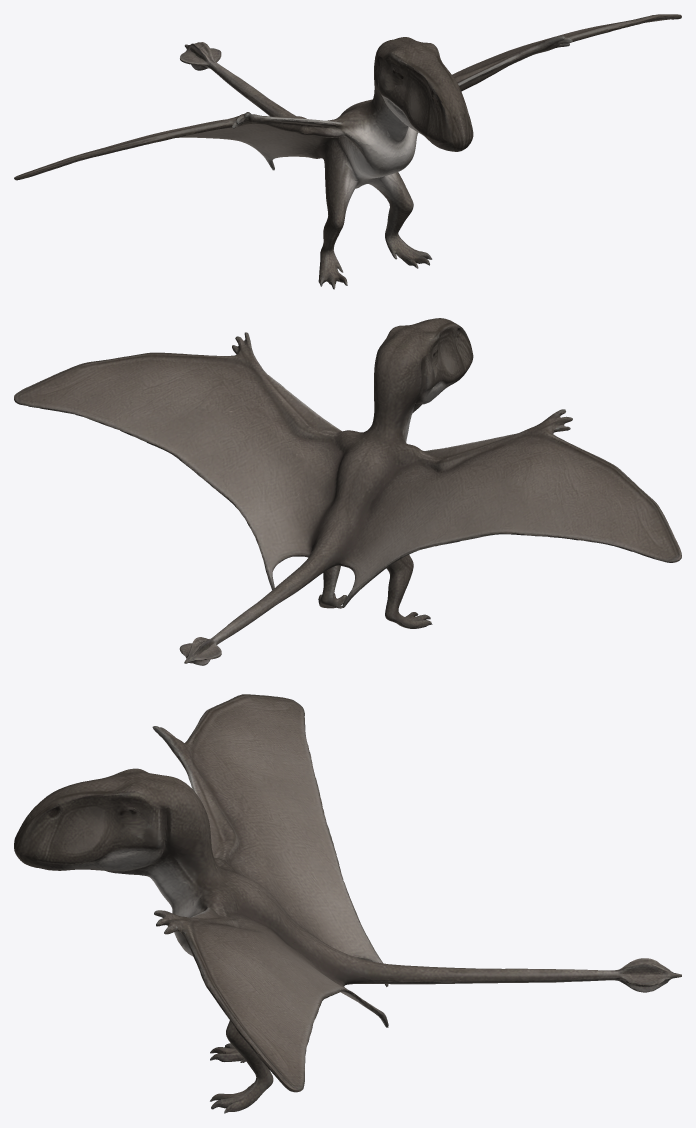
The model's file is Dimorphodon.glb.
The picture shows the model from 3 angles, top to bottom: view 1: azimuth 30°, elevation 25°; view 2: azimuth 150°, elevation 25°; view 3: azimuth 270°, elevation 25°; orthographic projection. The views are drawn at different scales.
Size of the model in its own units: 1.9 by 0.693 by 1.38.
Materials: 1 (1 with a texture image).
